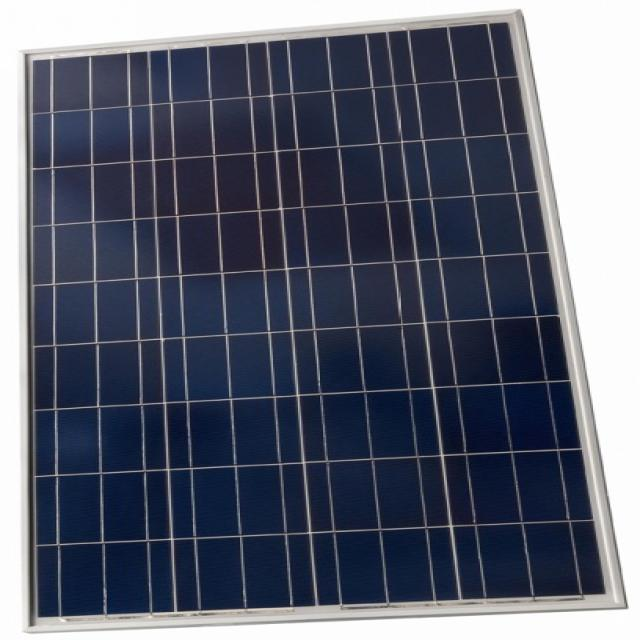clean-solar-panel: (29, 22, 614, 619)
